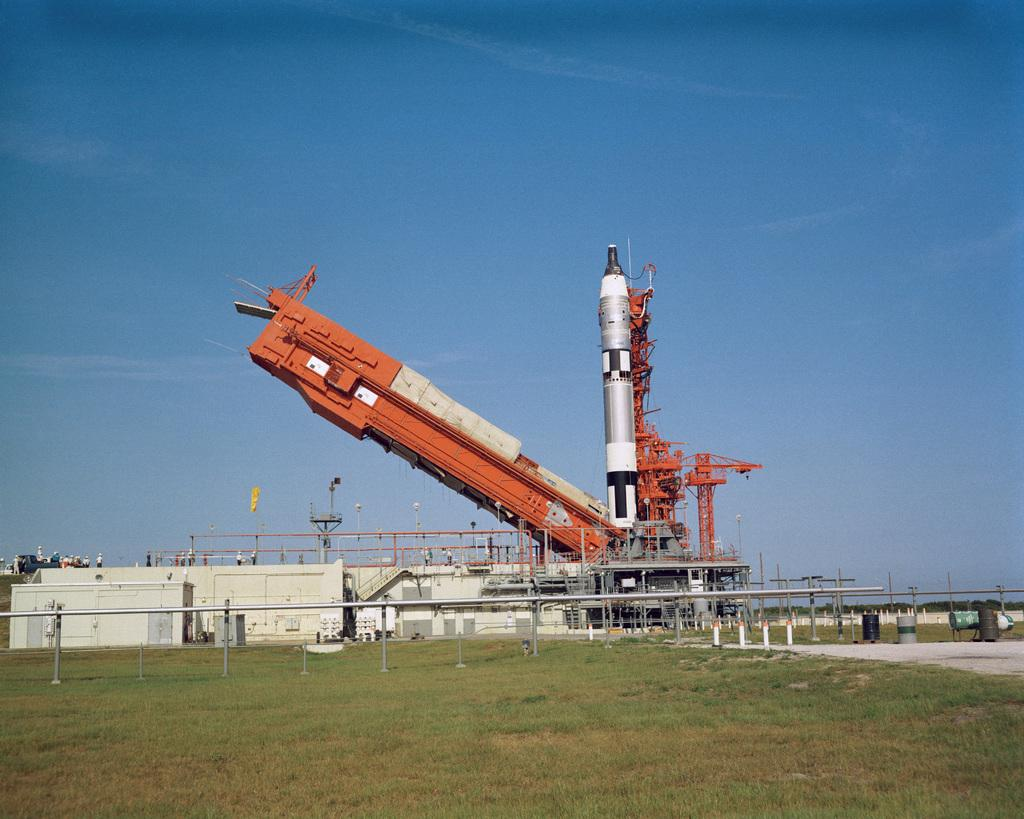Missile: (605, 237, 641, 536)
